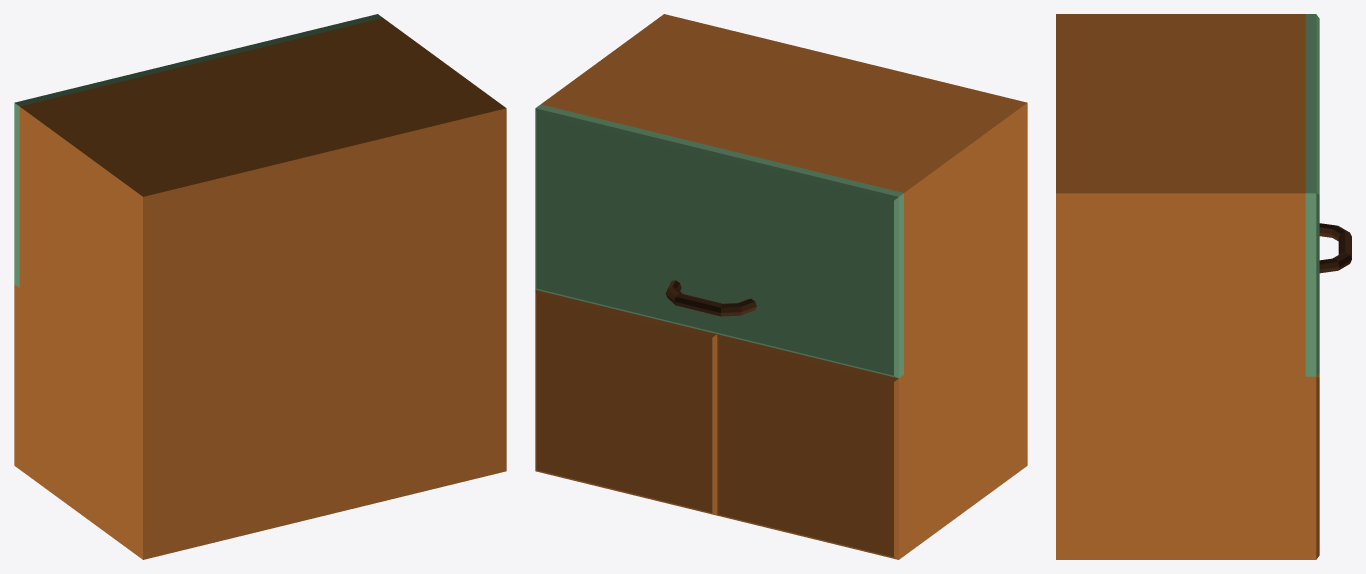
Rendered from Kitchen Cabinet 1.fbx.
3 views of the same model, side by side, from view 1: azimuth 30°, elevation 25°; view 2: azimuth 150°, elevation 25°; view 3: azimuth 270°, elevation 25° (orthographic).
Visible parts, largest first — view 1: Node 0, Node 1, Node 2; view 2: Node 0, Node 1, Node 2, Node 3; view 3: Node 0, Node 1, Node 3.
Part boxes in pixels (x1,y1,x2,y2): Node 0: (19, 18, 506, 559); Node 1: (14, 14, 382, 287); Node 2: (14, 284, 19, 469); Node 0: (541, 14, 1027, 555); Node 1: (535, 104, 903, 378); Node 2: (717, 334, 903, 559); Node 3: (535, 290, 716, 515); Node 0: (1056, 14, 1305, 559); Node 1: (1305, 14, 1351, 376); Node 3: (1305, 372, 1319, 559).
Bounding box in the file's own units: 0.4491 × 0.6142 × 0.6435.
